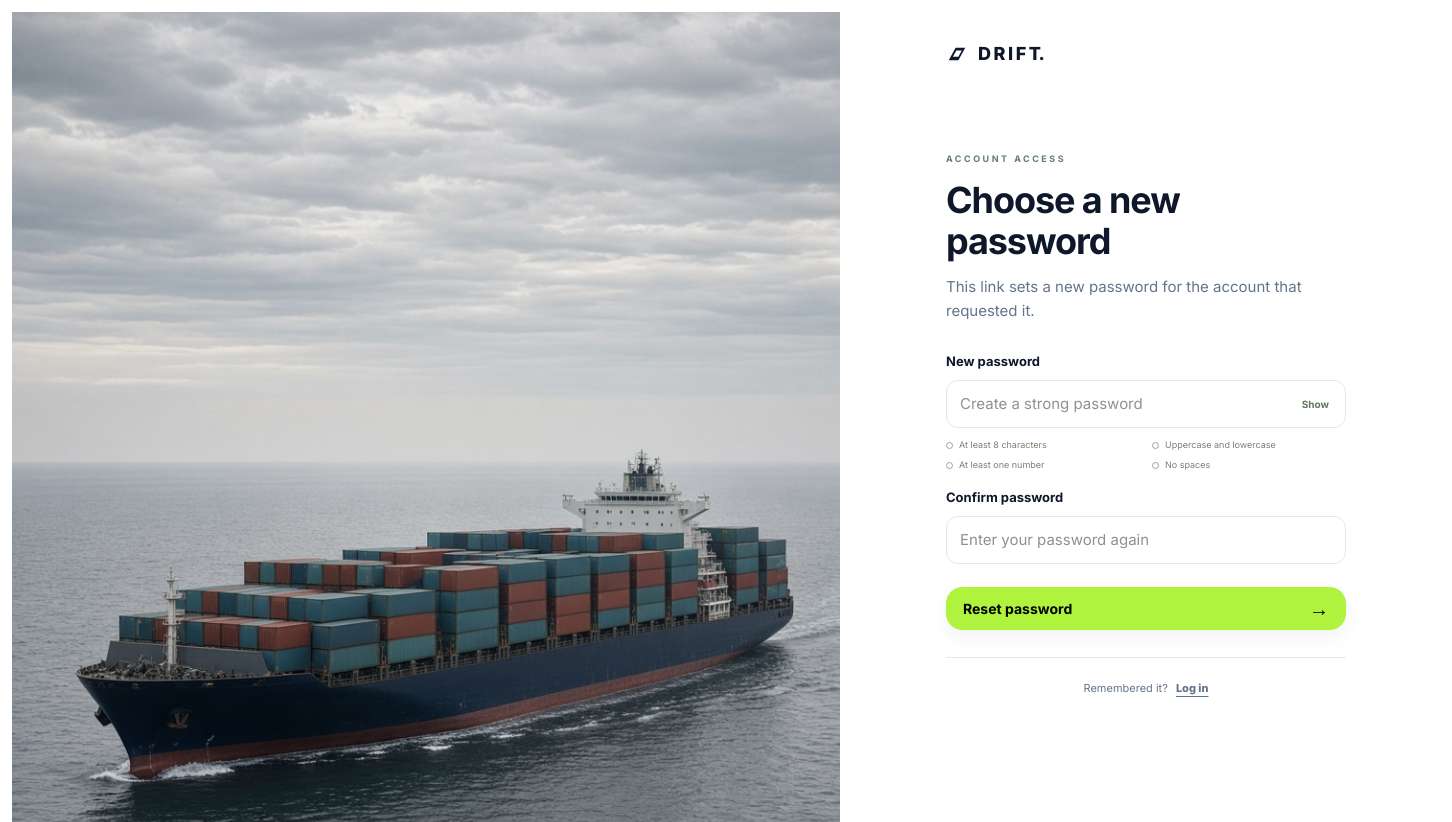
Test case: reset password page › blocks a short password and a confirmation that does not match
Type "short1A" into the password field labelled "New password" at (1146, 404), box [946, 380, 1346, 428]
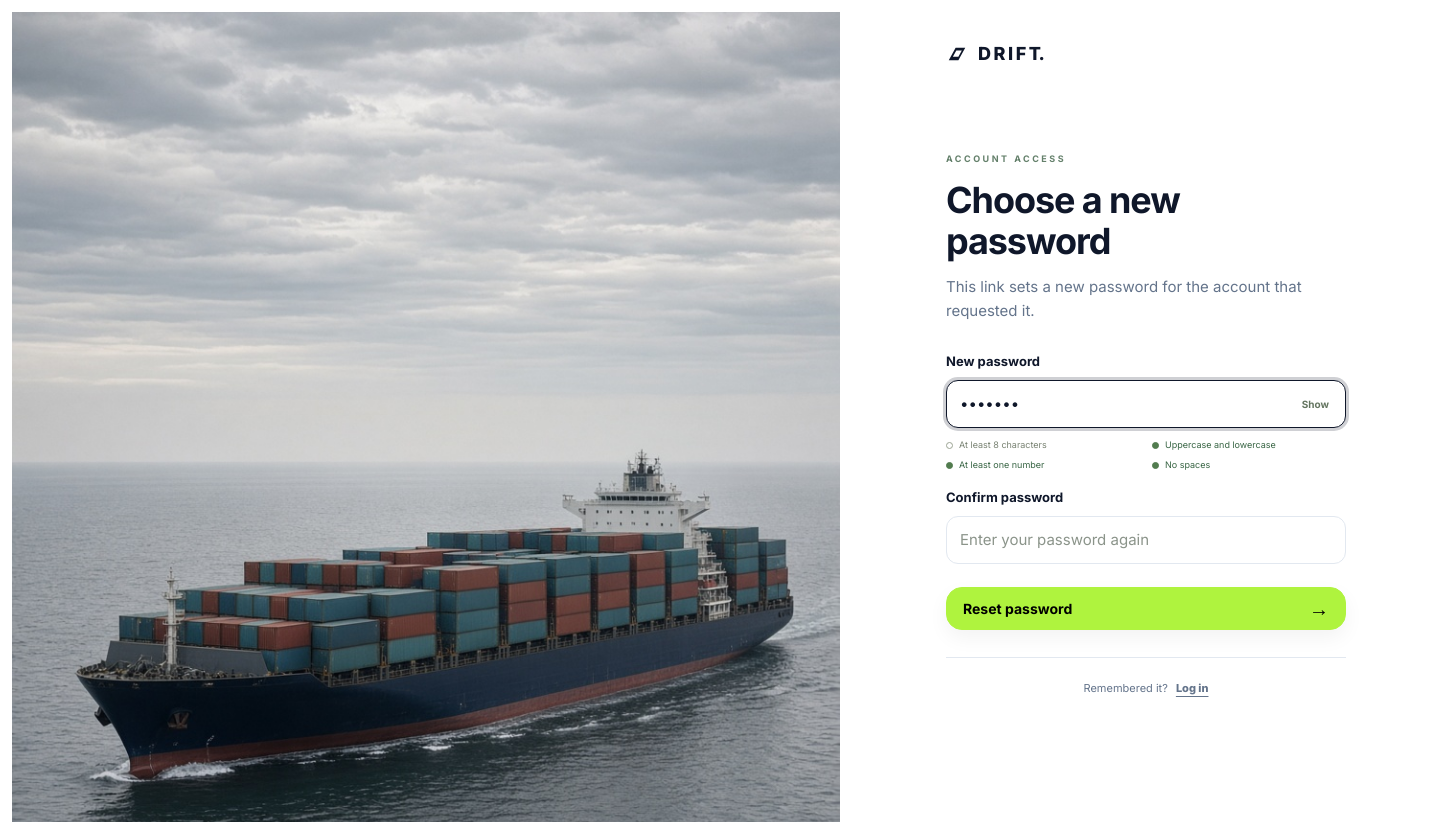
Type "short1A" into the password field labelled "Confirm password" at (1146, 540), box [946, 516, 1346, 564]
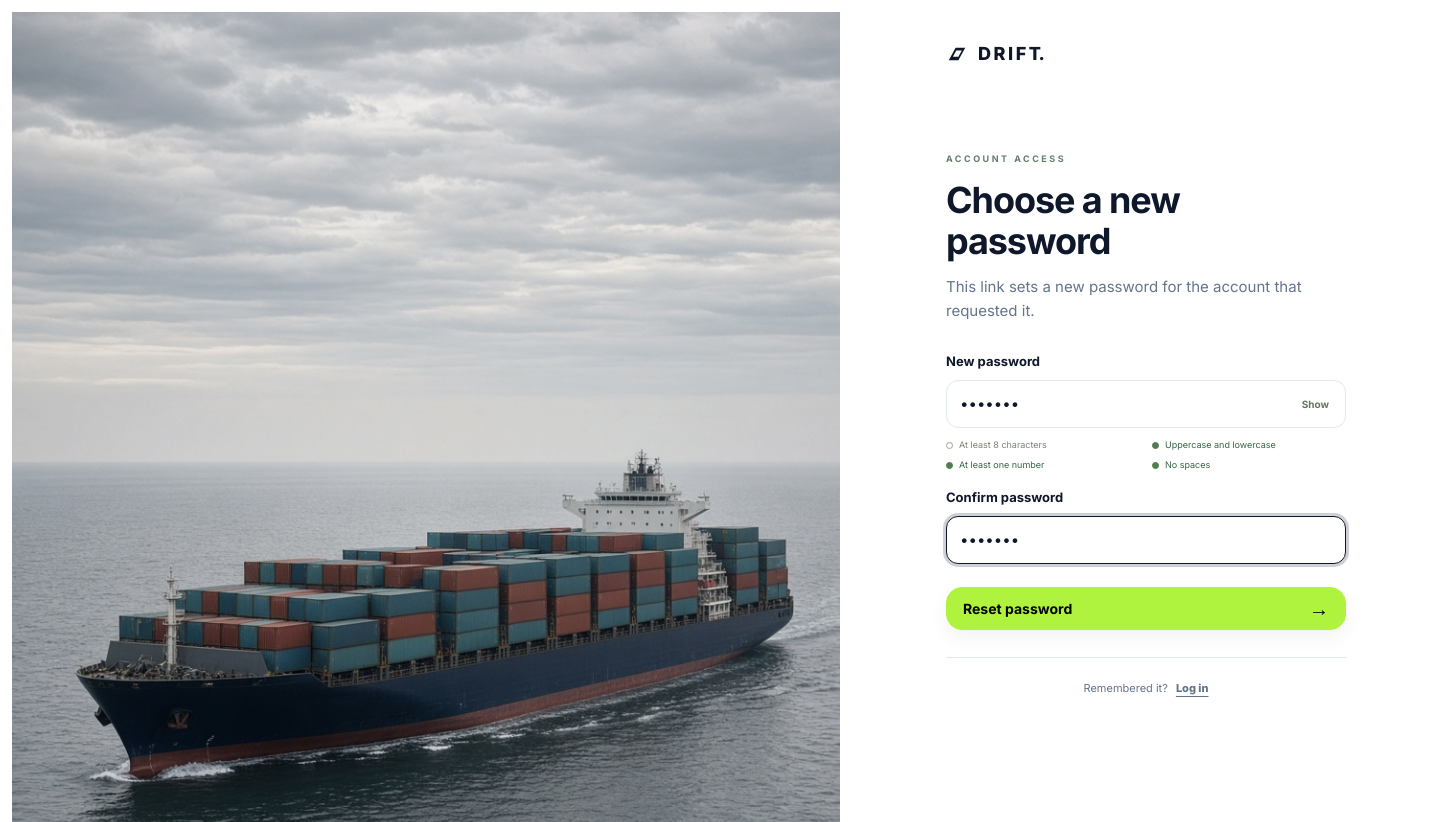
Click the button "Reset password →" at (1018, 609), box [946, 587, 1346, 630]
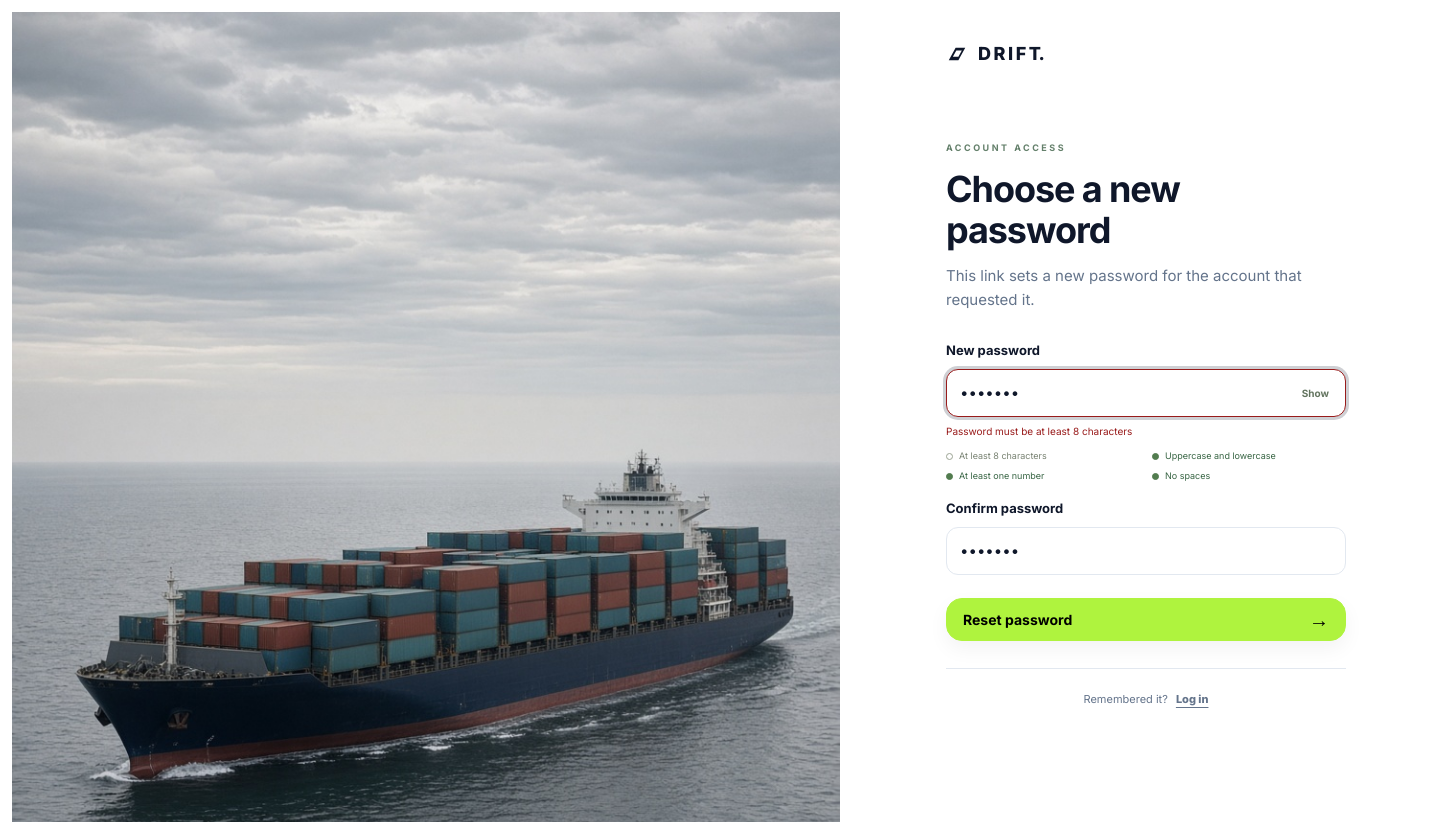
Now the text "Password must be at least 8 characters" is shown, box [946, 425, 1132, 437]
Type "Example123" into the password field labelled "New password" at (1146, 393), box [946, 369, 1346, 417]
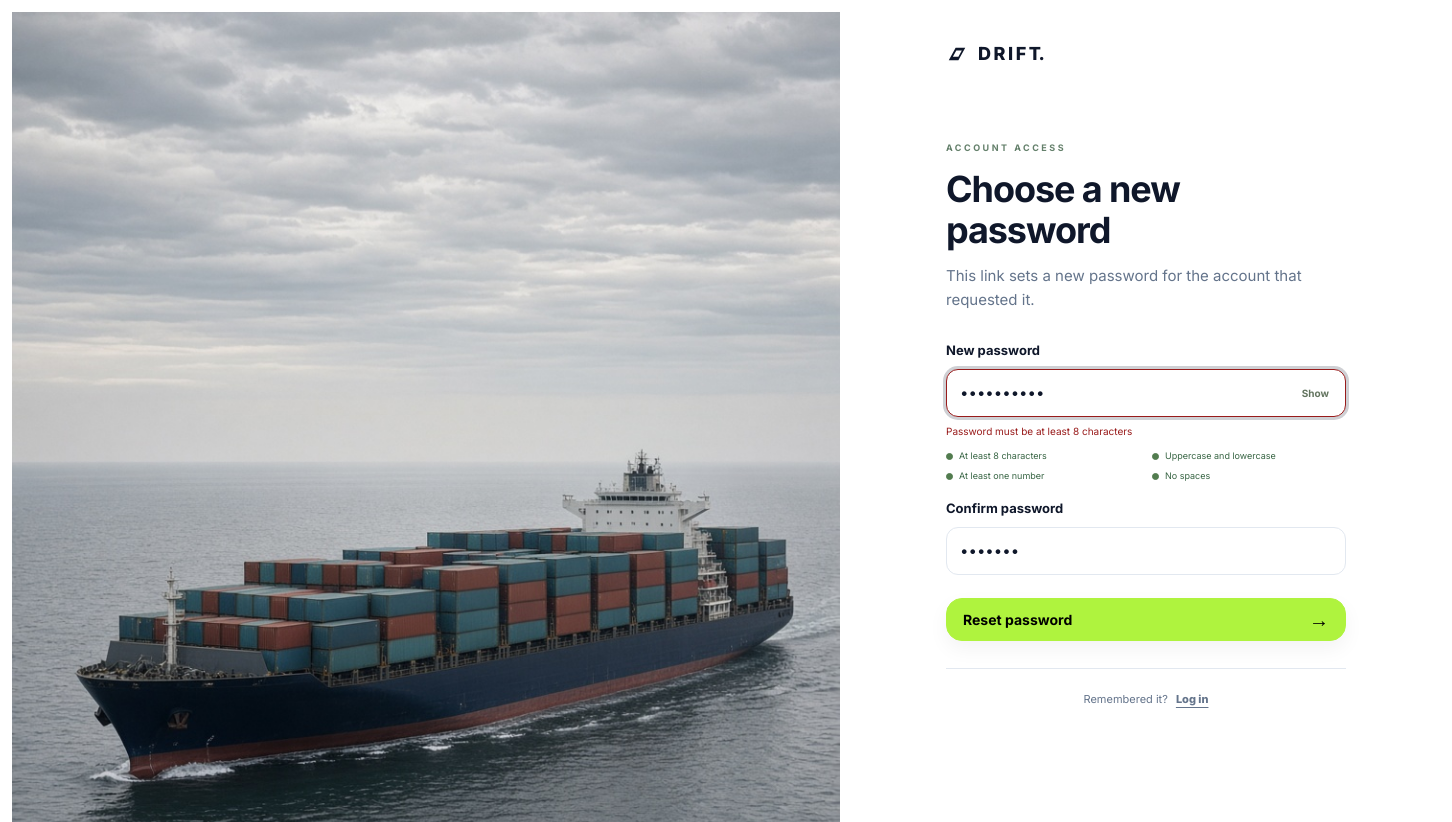
Type "Example124" into the password field labelled "Confirm password" at (1146, 551), box [946, 527, 1346, 575]
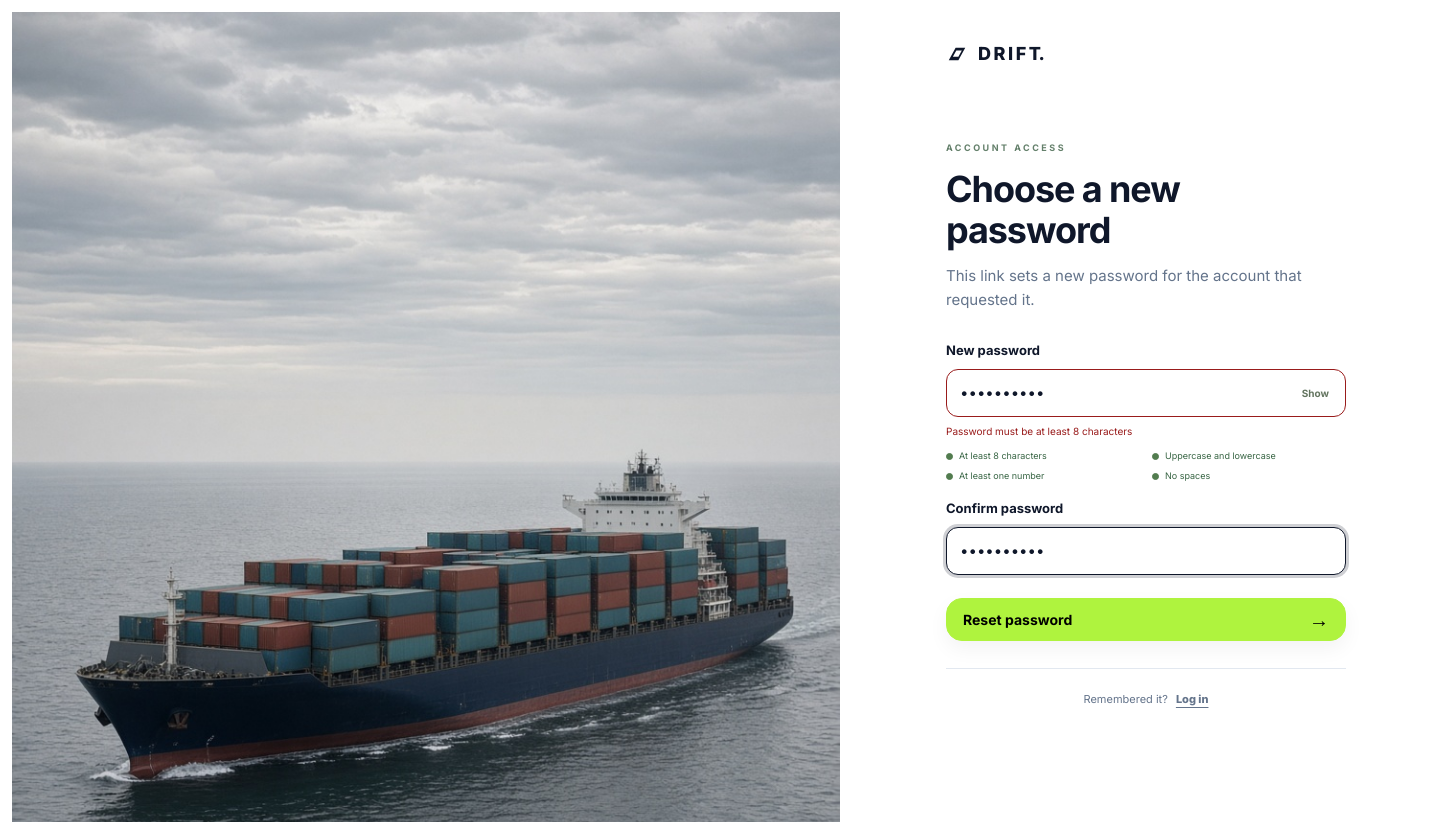
Click the button "Reset password →" at (1018, 620), box [946, 598, 1346, 641]
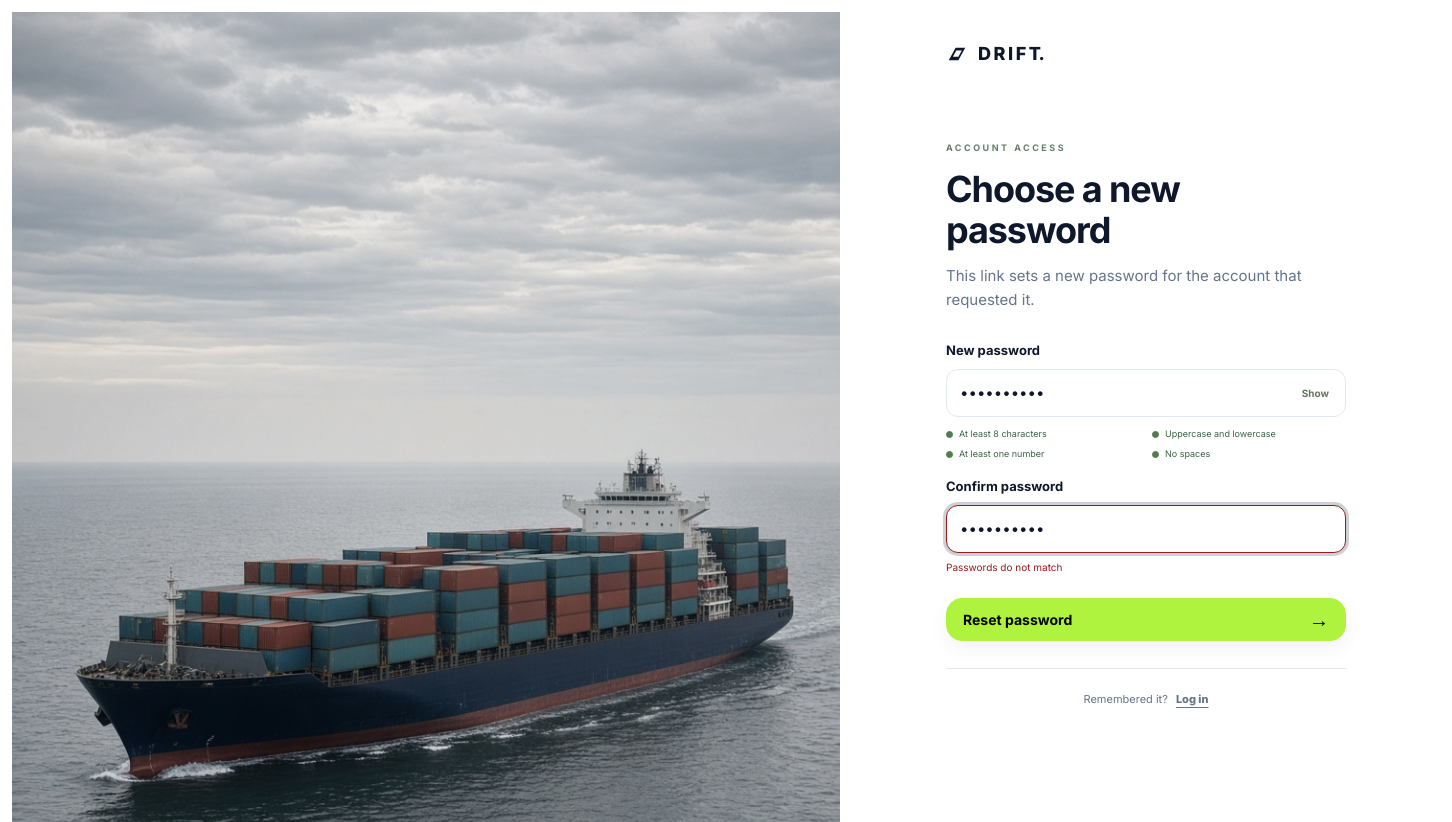
Now the text "Passwords do not match" is shown, box [946, 561, 1062, 573]
